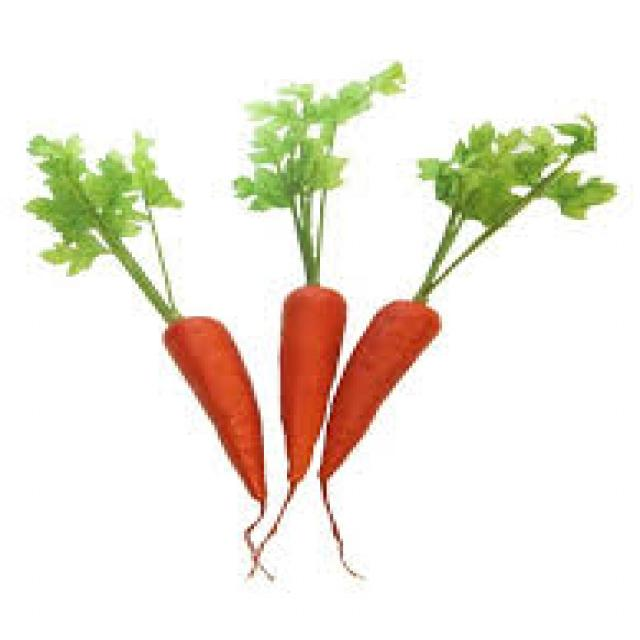organic waste: (231, 57, 396, 279), (412, 118, 614, 296), (316, 304, 438, 576), (20, 131, 185, 314), (248, 282, 343, 578), (165, 314, 270, 581)
